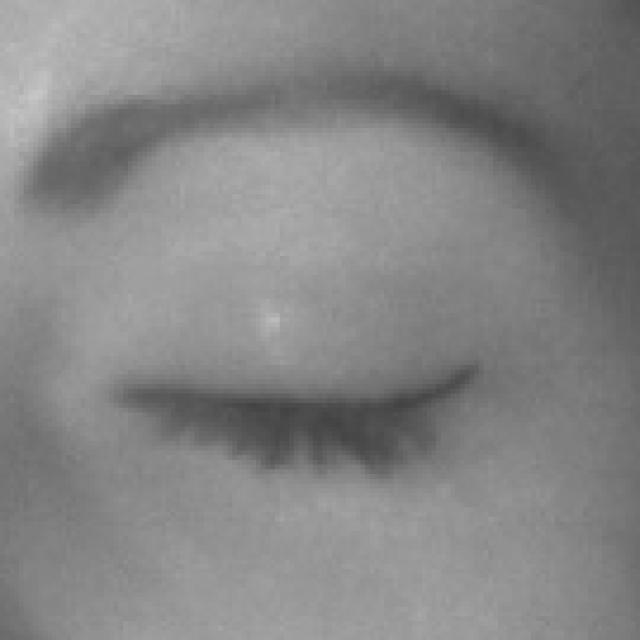close: (1, 34, 640, 610)
